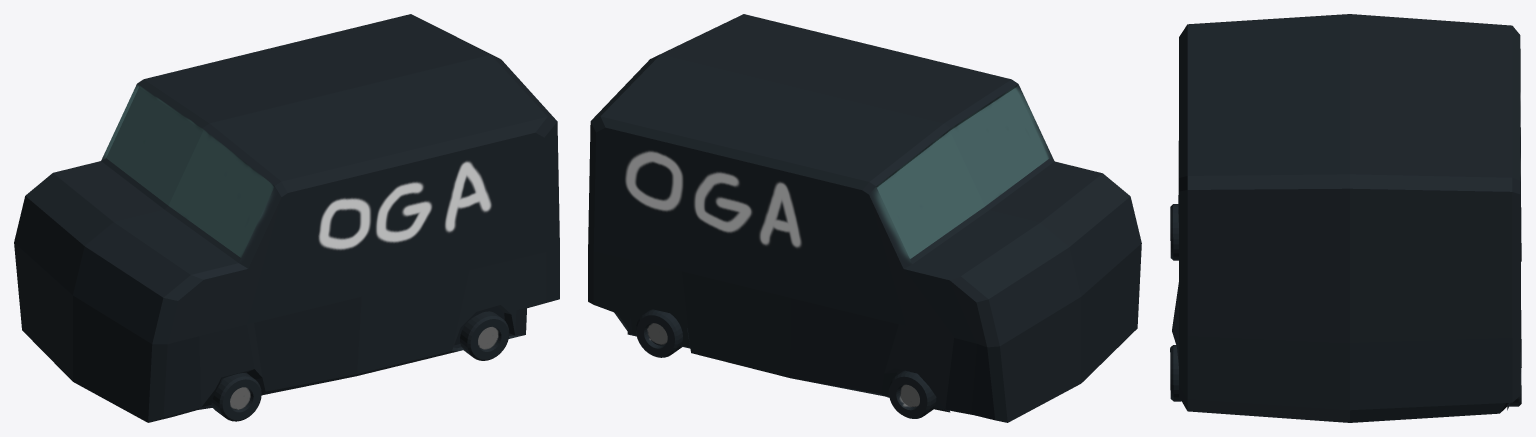
The model's file is Van.fbx.
3 renders of one model, left to right at view 1: azimuth 30°, elevation 25°; view 2: azimuth 150°, elevation 25°; view 3: azimuth 270°, elevation 25°, orthographic. The views are drawn at different scales.
Visible parts, largest first — view 1: Cube; view 2: Cube; view 3: Cube.
Boxes of the visible parts, <box> form: Cube: <box>14,14,559,422</box>; Cube: <box>588,14,1141,422</box>; Cube: <box>1170,14,1521,422</box>.
Bounding box in the file's own units: 957 × 491 × 581.
